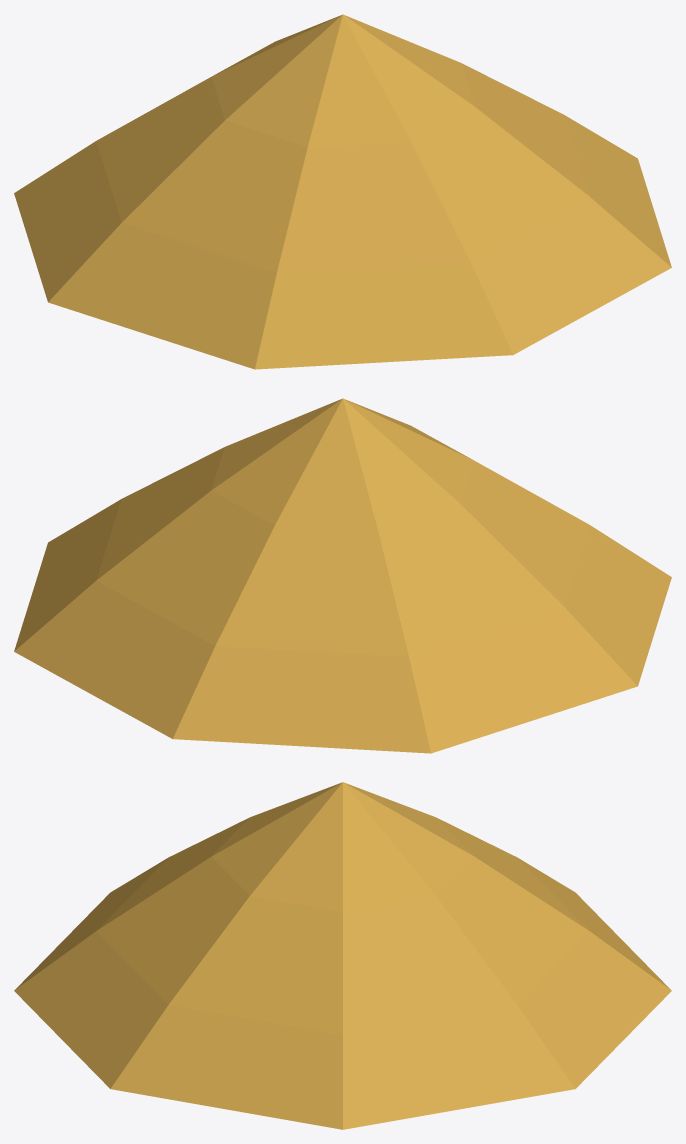
Rendered from sand.glb.
3 renders of one model, top to bottom at view 1: azimuth 30°, elevation 25°; view 2: azimuth 150°, elevation 25°; view 3: azimuth 270°, elevation 25°, orthographic. The views are drawn at different scales.
Parts seen in each view (by area): view 1: sand; view 2: sand; view 3: sand.
Part boxes in pixels (x1,y1,x2,y2): sand: (14,14,671,369); sand: (14,398,671,753); sand: (14,782,671,1129).
Bounding box in the file's own units: 0.4 × 0.14 × 0.4.
Materials: 1 (1 with a texture image).
